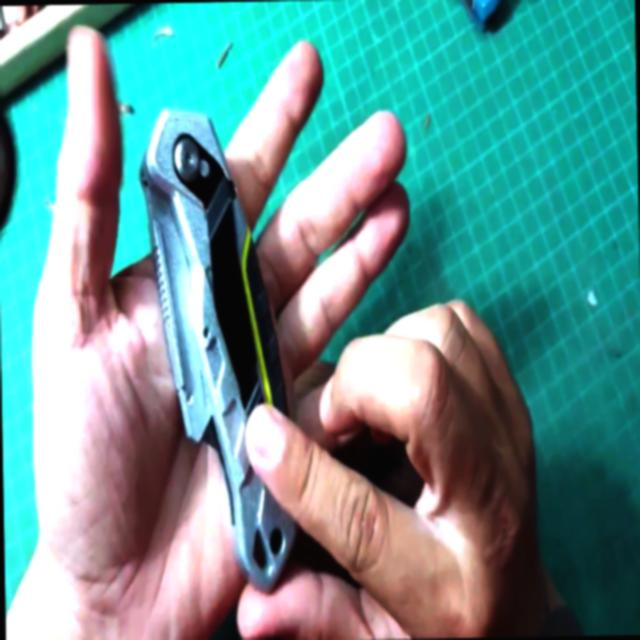cutter: (3, 4, 598, 640)
